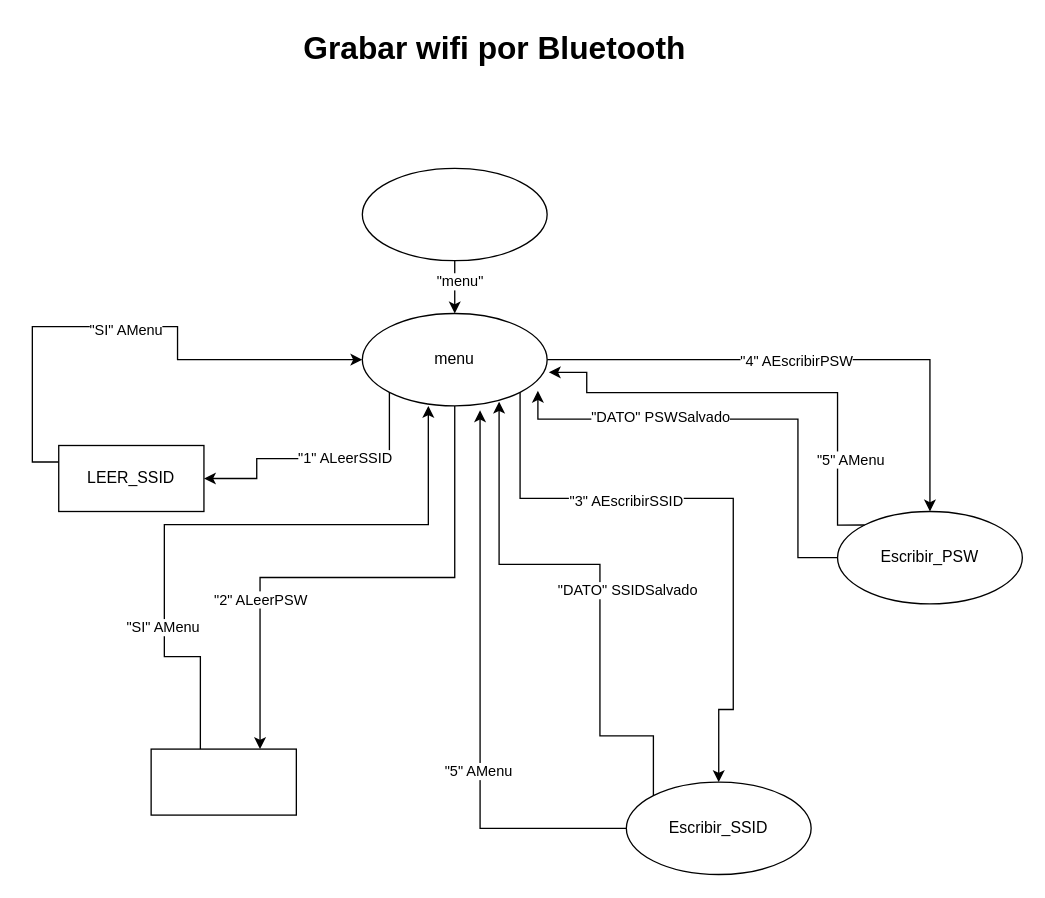
Some shapes in this 1045 by 898 pixel diagram are drawn without their labels. Here are the shapes that lost their labels. From the top down, the box of each, then its label:
(361, 167, 547, 261): Espera
(150, 748, 296, 815): LEER_PSW
